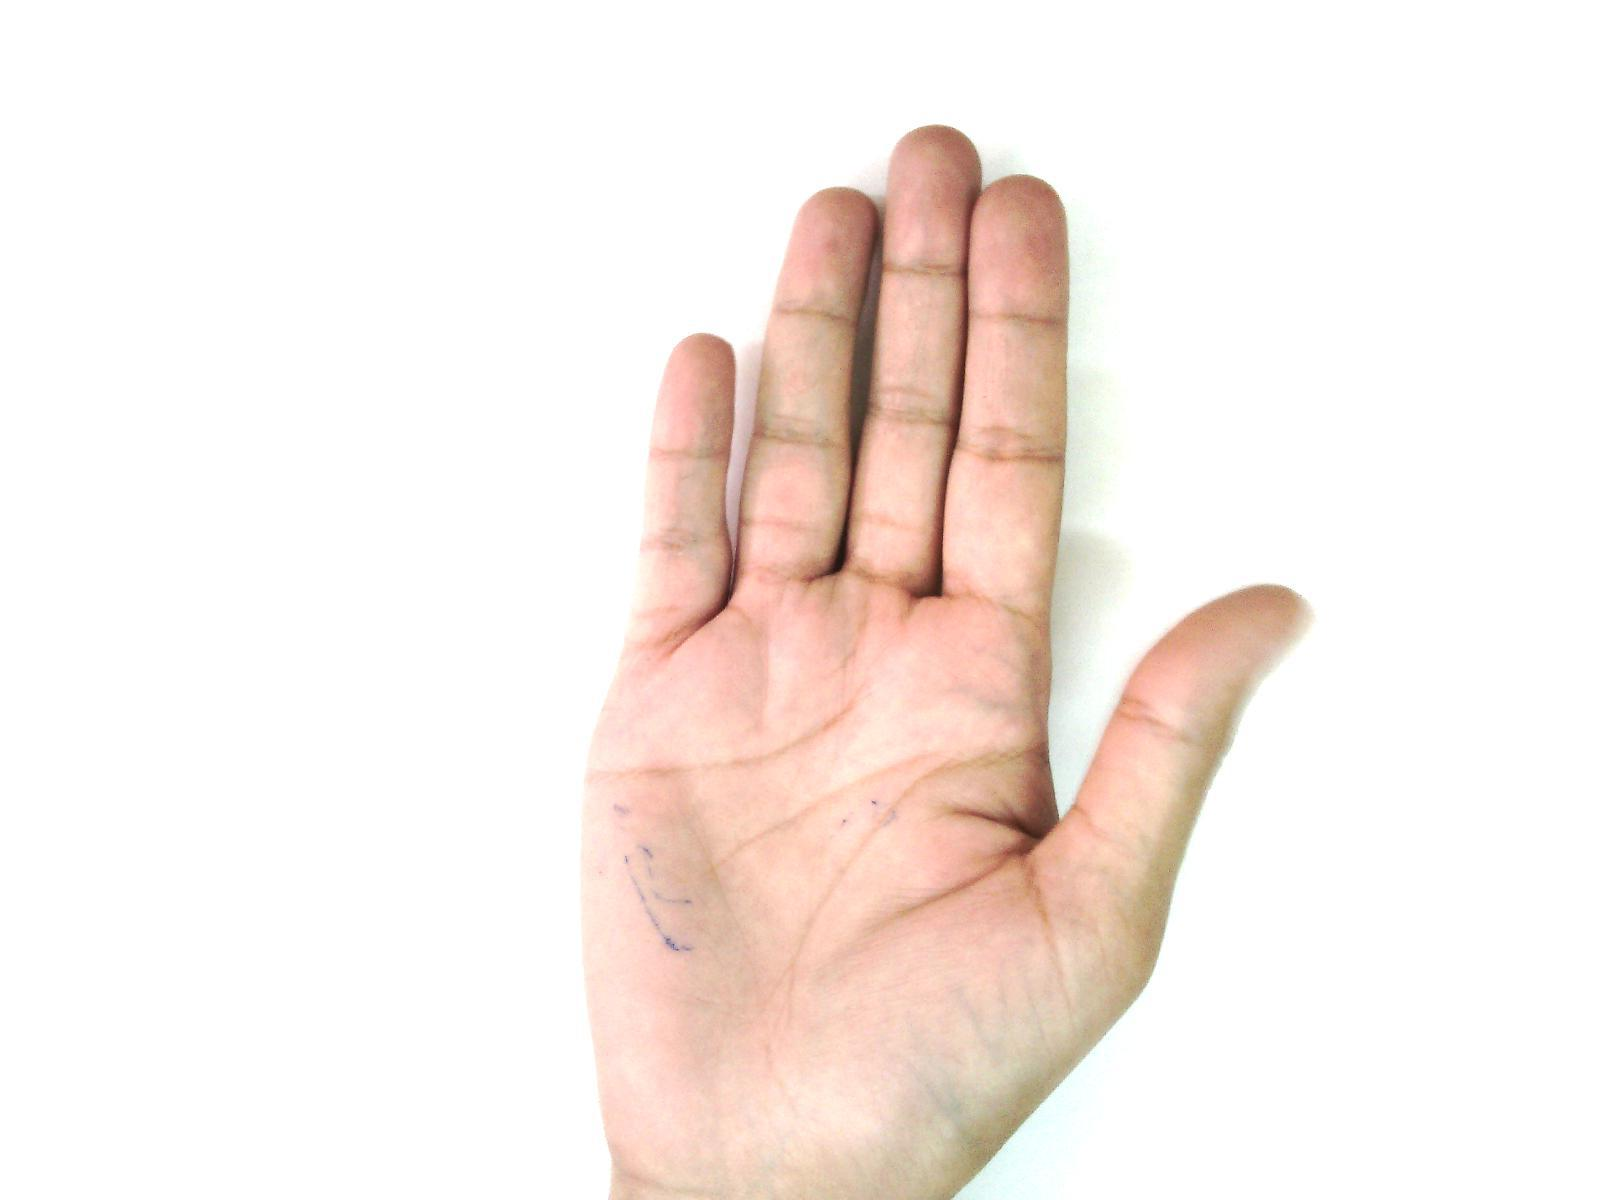hand: (567, 118, 1323, 1200)
